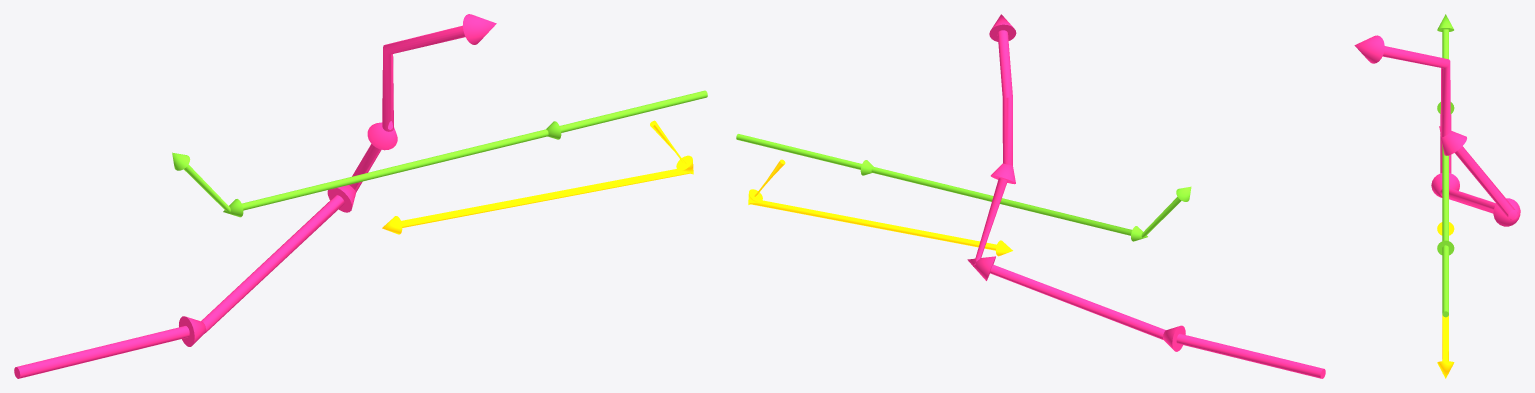
File: alternator_flow.glb
The picture shows the model from 3 angles, left to right: view 1: azimuth 30°, elevation 25°; view 2: azimuth 150°, elevation 25°; view 3: azimuth 270°, elevation 25°; orthographic projection. The views are drawn at different scales.
Visible parts, largest first — view 1: power, cooling_air, excitation; view 2: power, cooling_air, excitation; view 3: power, cooling_air, excitation.
Boxes of the visible parts, x1=… form: power: x1=14, y1=14, x2=496, y2=378; cooling_air: x1=172, y1=90, x2=707, y2=217; excitation: x1=382, y1=120, x2=693, y2=234; power: x1=967, y1=14, x2=1325, y2=378; cooling_air: x1=736, y1=134, x2=1191, y2=241; excitation: x1=748, y1=159, x2=1012, y2=256; power: x1=1354, y1=35, x2=1520, y2=226; cooling_air: x1=1437, y1=14, x2=1454, y2=317; excitation: x1=1437, y1=222, x2=1454, y2=378.
Bounding box in the file's own units: 1.3 × 0.5376 × 0.3006.
